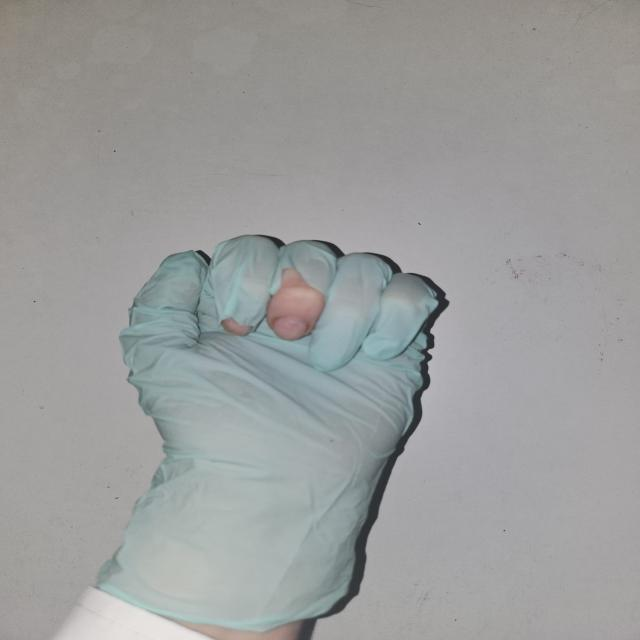gloves_damaged: (91, 233, 442, 624)
